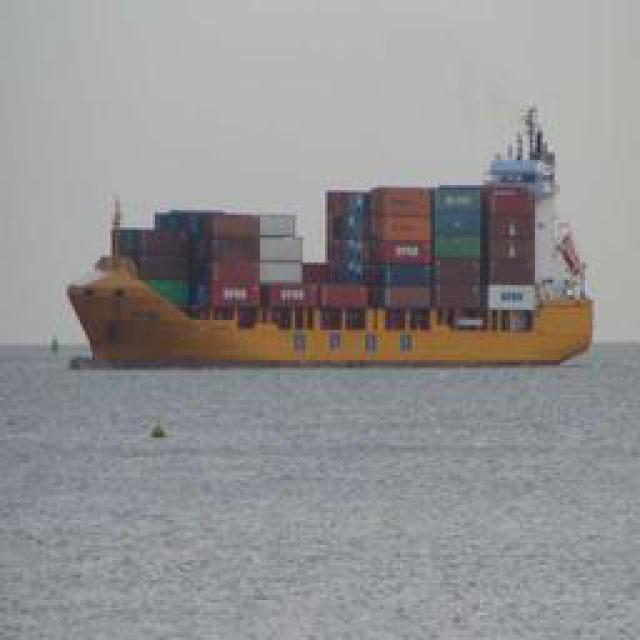Ship: (55, 123, 601, 371)
